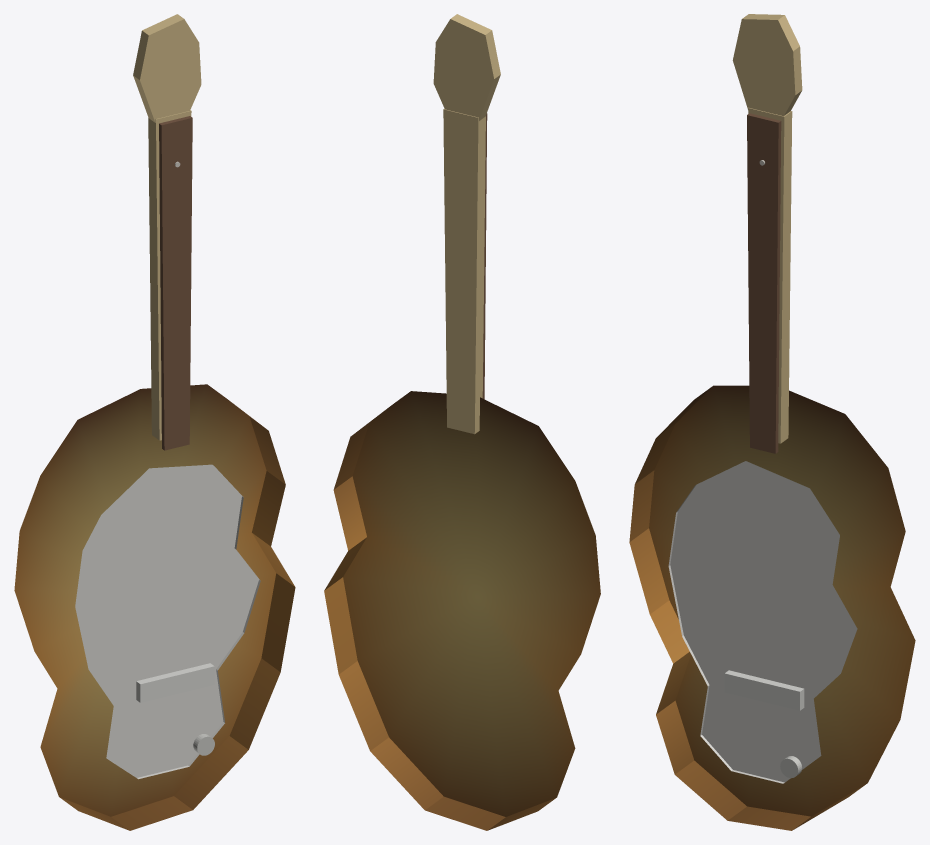
File: strat_fixed_separate_parts_sunburst.glb
The picture shows the model from 3 angles, left to right: view 1: azimuth 30°, elevation 25°; view 2: azimuth 150°, elevation 25°; view 3: azimuth 330°, elevation 25°; orthographic projection. The views are drawn at different scales.
Parts seen in each view (by area): view 1: BODY, PICKGUARD, FRETBOARD, HEADSTOCK, NECK, PICKUPS; view 2: BODY, NECK, HEADSTOCK, FRETBOARD; view 3: BODY, PICKGUARD, FRETBOARD, HEADSTOCK, NECK, PICKUPS.
Part boxes in pixels (bbox=[...]): BODY: bbox=[14, 384, 295, 830]; PICKGUARD: bbox=[75, 464, 260, 779]; FRETBOARD: bbox=[159, 116, 192, 450]; HEADSTOCK: bbox=[133, 14, 201, 122]; NECK: bbox=[148, 110, 191, 440]; PICKUPS: bbox=[136, 663, 214, 702]; BODY: bbox=[324, 391, 600, 830]; NECK: bbox=[443, 108, 485, 434]; HEADSTOCK: bbox=[433, 14, 500, 120]; FRETBOARD: bbox=[482, 113, 487, 399]; BODY: bbox=[629, 385, 915, 830]; PICKGUARD: bbox=[668, 461, 857, 783]; FRETBOARD: bbox=[747, 113, 781, 453]; HEADSTOCK: bbox=[732, 14, 802, 116]; NECK: bbox=[748, 107, 792, 443]; PICKUPS: bbox=[724, 670, 804, 710].
Bounding box in the file's own units: 0.353 × 1.03 × 0.063.
